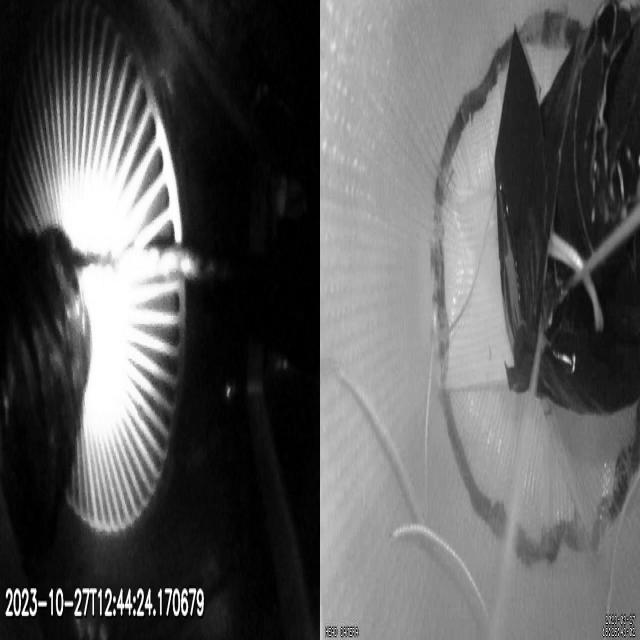red-circle: (431, 9, 640, 562)
